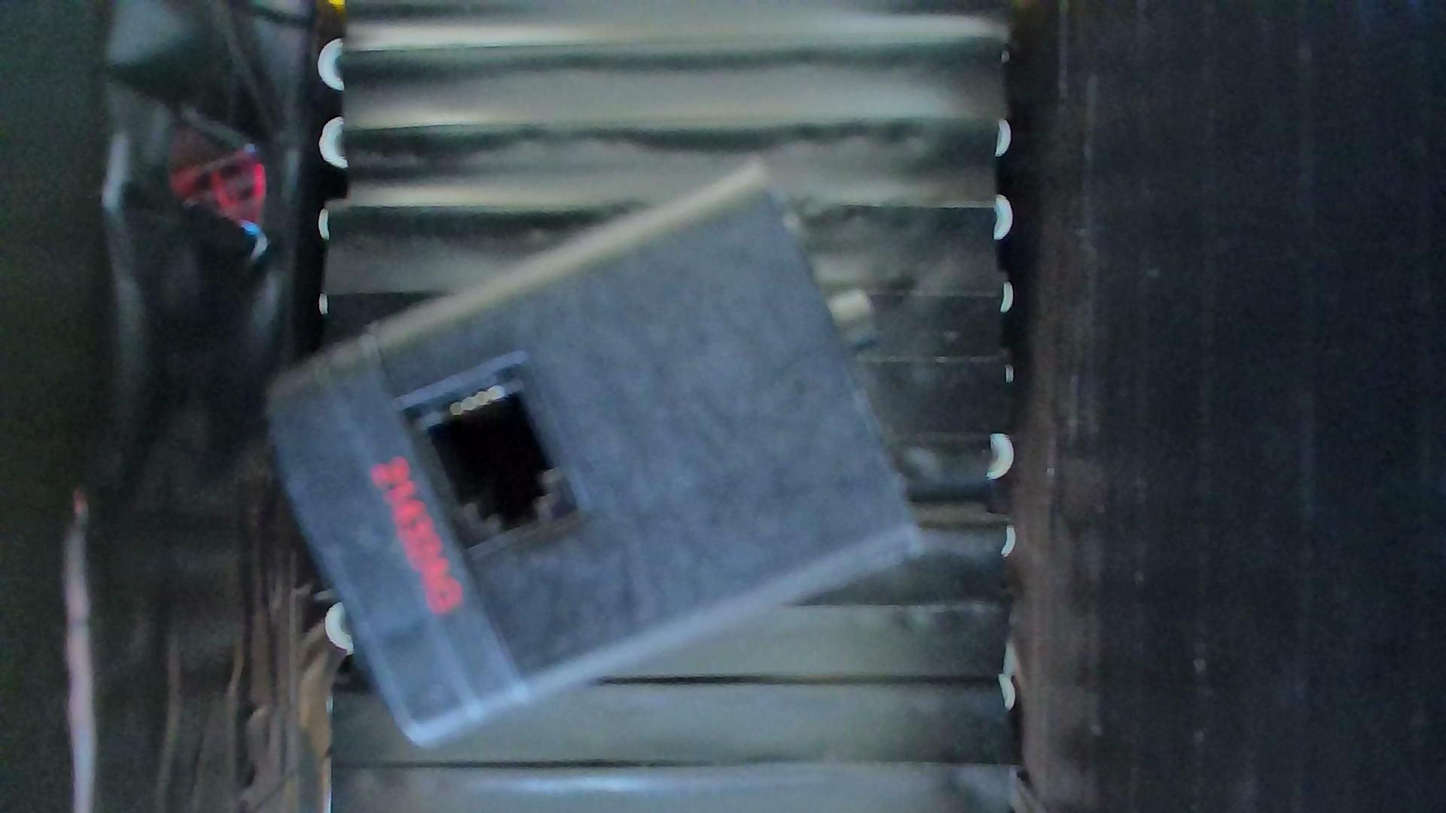motor: (263, 159, 927, 753)
